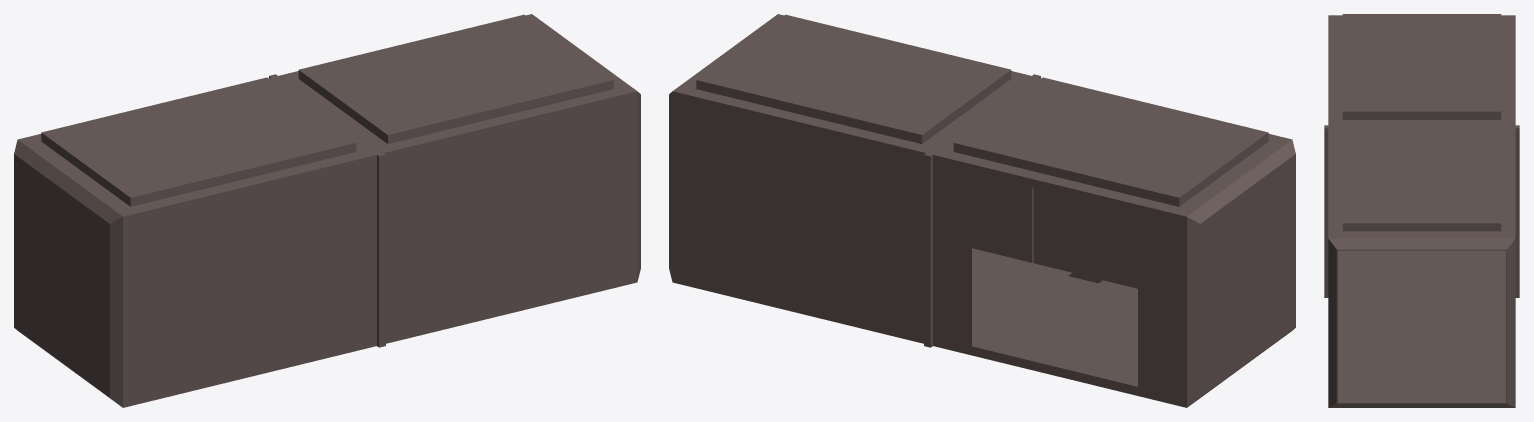
Rendered from Vent_pipe_2.fbx.
3 views of the same model, side by side, from view 1: azimuth 30°, elevation 25°; view 2: azimuth 150°, elevation 25°; view 3: azimuth 270°, elevation 25° (orthographic). The views are drawn at different scales.
Parts seen in each view (by area): view 1: Cube.000; view 2: Cube.000; view 3: Cube.000.
Part boxes in pixels (x1,y1,x2,y2): Cube.000: [14, 14, 640, 407]; Cube.000: [669, 14, 1295, 407]; Cube.000: [1324, 14, 1519, 407].
Size of the model in its own units: 400 by 144 by 144.
